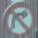Don't turn right: (4, 3, 35, 36)
